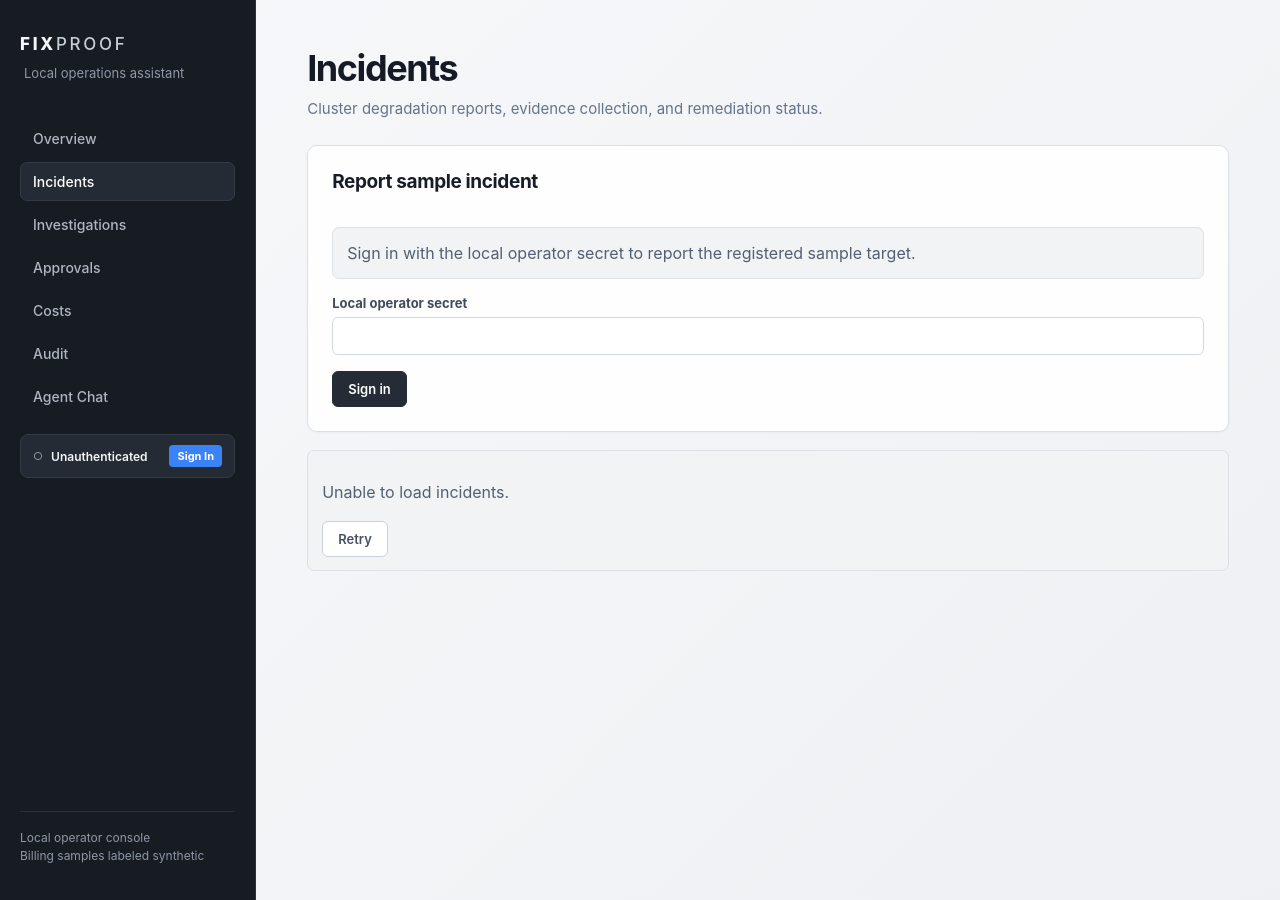
Test: operations console › shows an incident API failure and lets the operator retry
The image size is (1280, 900).
Expected: the message "Unable to load incidents. Retry" is shown, [307,450,1229,571]
Expected: the text "No incidents yet" is not shown
Click the button "Retry". click: (355, 539)
box: [322,521,388,557]
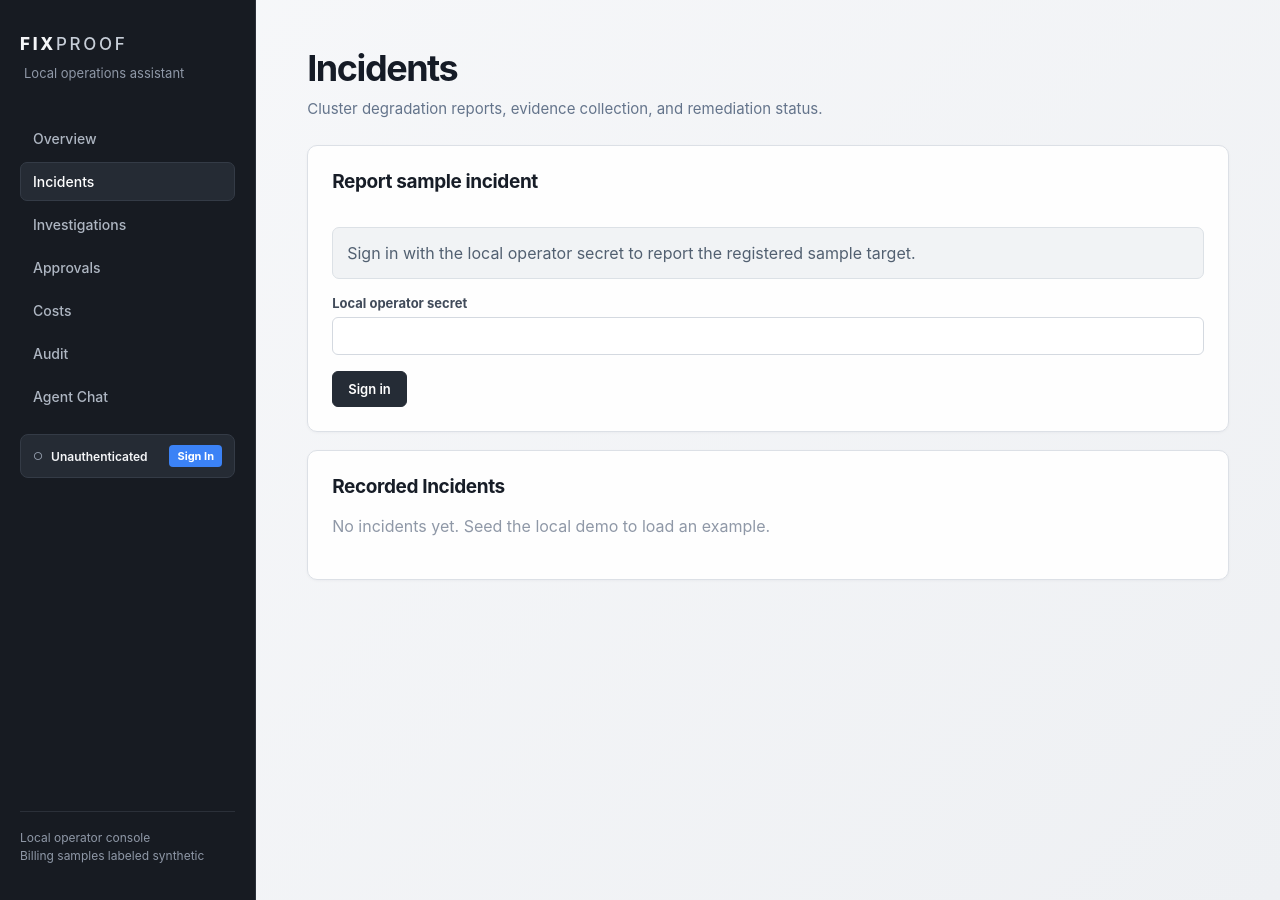
Expected: the text "No incidents yet. Seed the local demo to load an example." is shown, [332,516,770,536]
